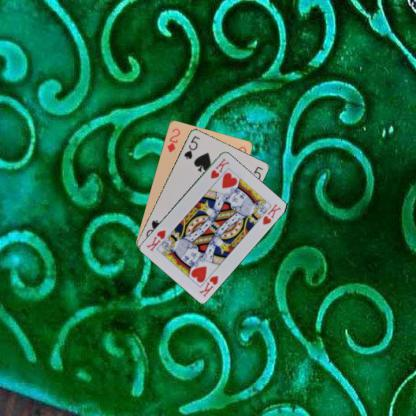2d: (165, 125, 182, 154)
5s: (181, 133, 201, 160)
Kh: (208, 155, 231, 180), (196, 273, 219, 298)
